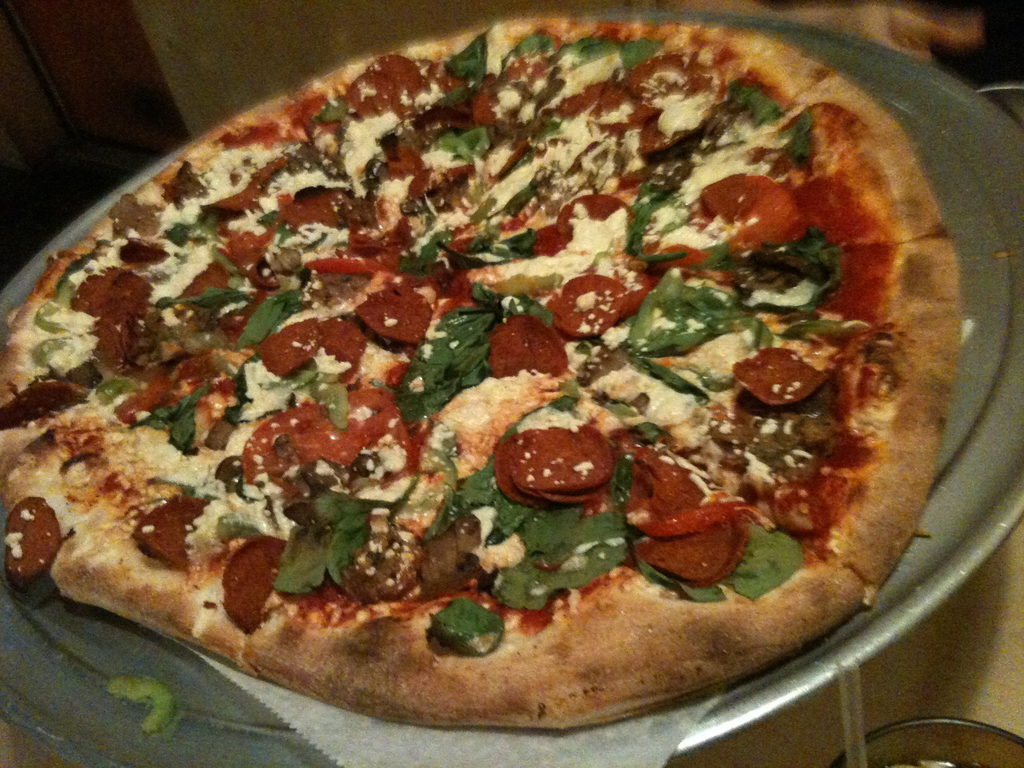Pizza: (0, 18, 964, 733)
